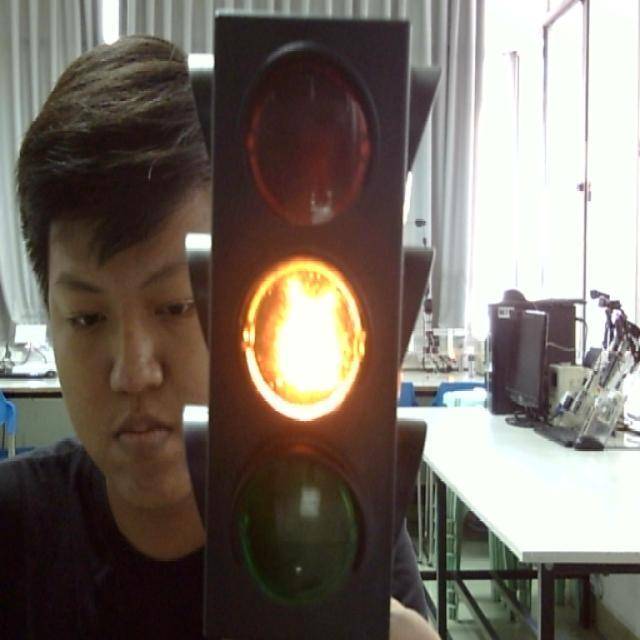yellow_light: (205, 8, 398, 630)
